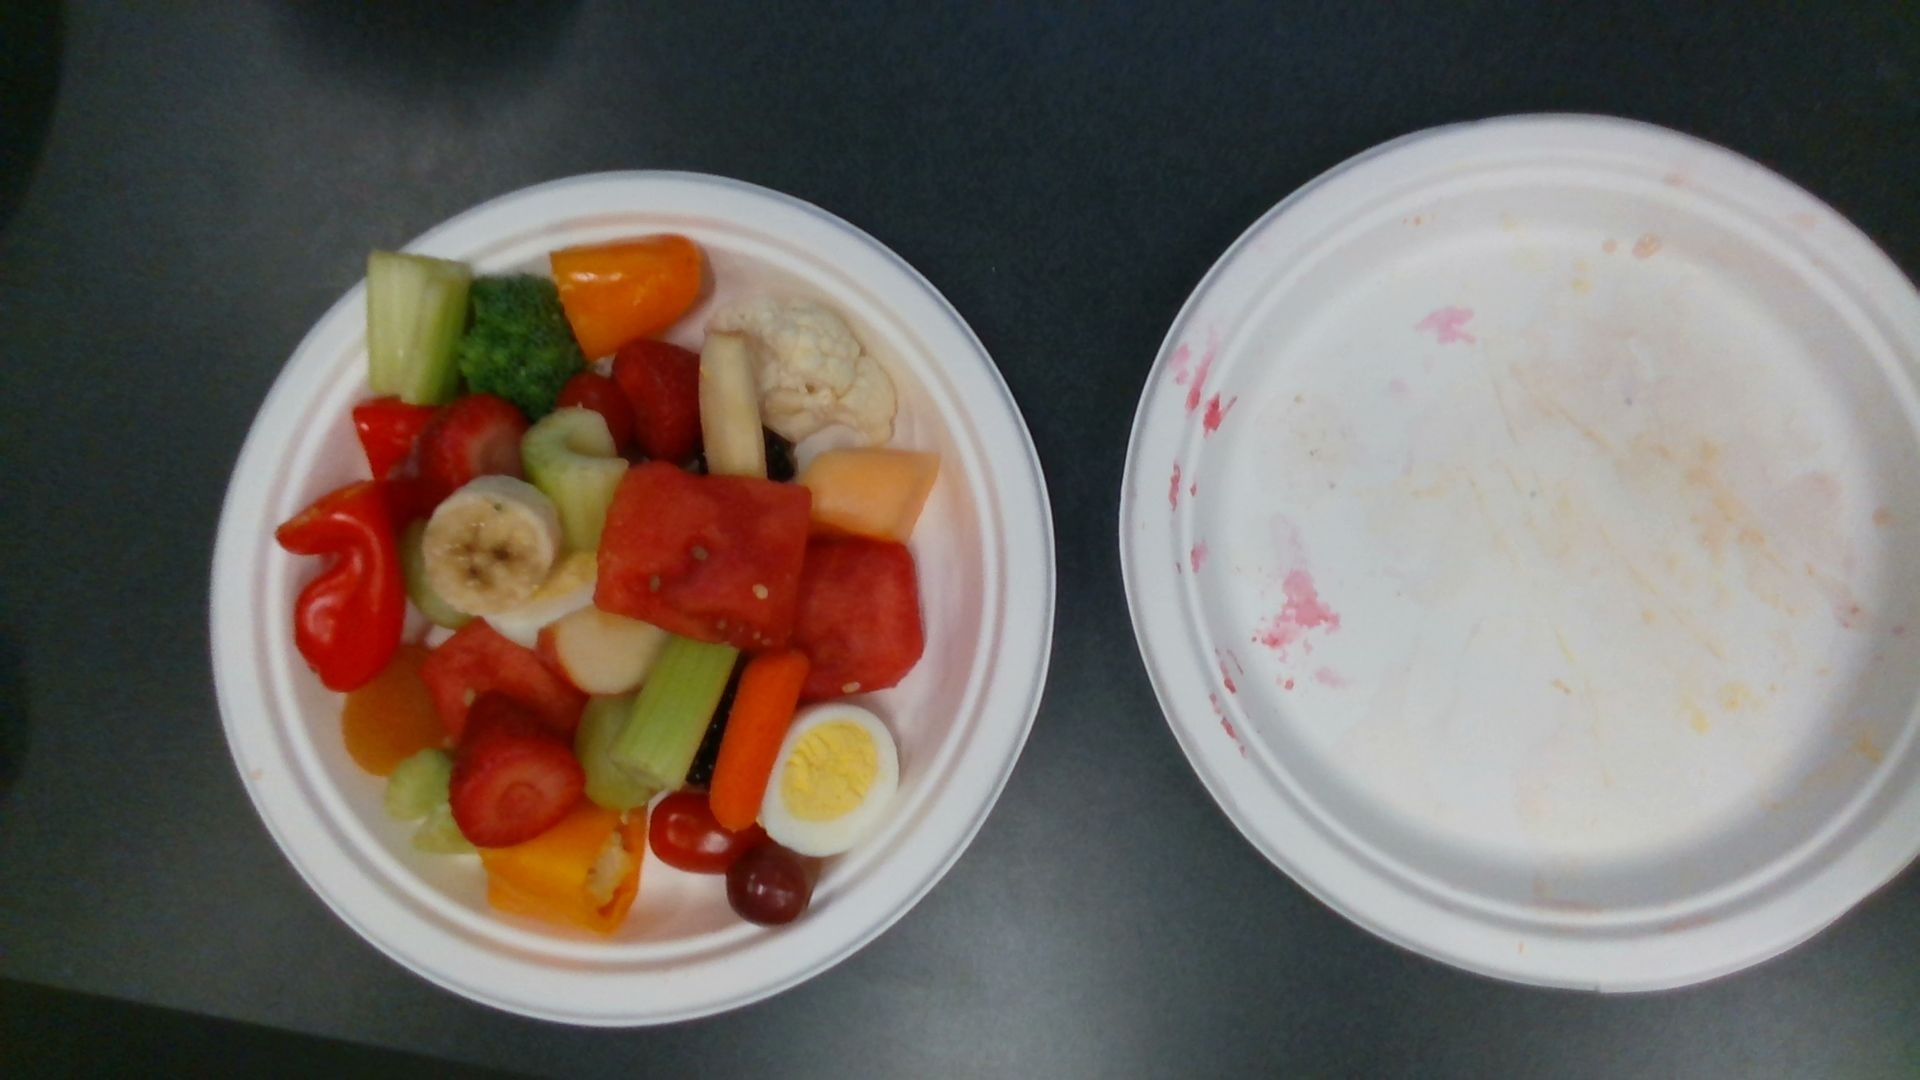apple: (541, 611, 651, 705), (699, 330, 769, 480)
apricot: (342, 647, 444, 778)
banana: (422, 477, 564, 615)
bell_pepper: (280, 483, 402, 694), (550, 236, 702, 355), (485, 811, 640, 926)
broccoli: (452, 276, 579, 407)
cantalope: (812, 448, 944, 535)
carrot: (709, 655, 808, 825)
cauliflower: (712, 291, 899, 443)
celery: (612, 633, 738, 791), (369, 245, 464, 407), (520, 410, 629, 543)
cherry_tomato: (651, 791, 762, 876)
egg: (760, 705, 899, 856)
grape_purple: (727, 848, 804, 926)
melon: (597, 463, 814, 646), (775, 541, 924, 700)
strawberry: (454, 695, 582, 845), (615, 342, 700, 460)
